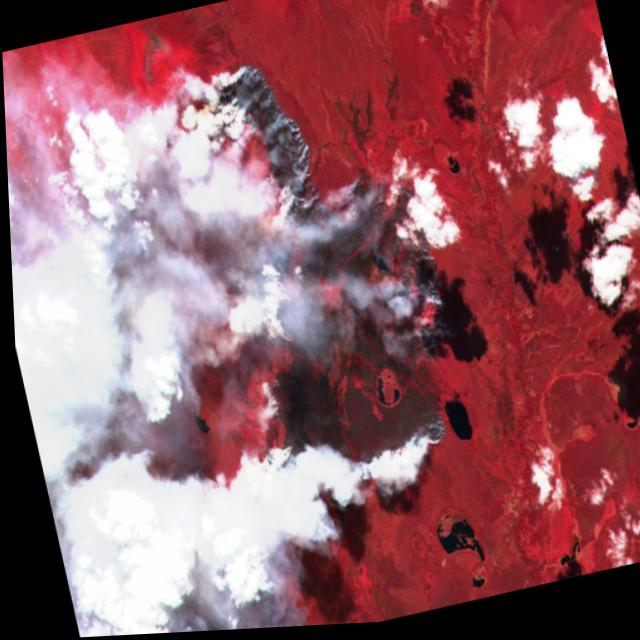fire: (159, 16, 511, 543)
